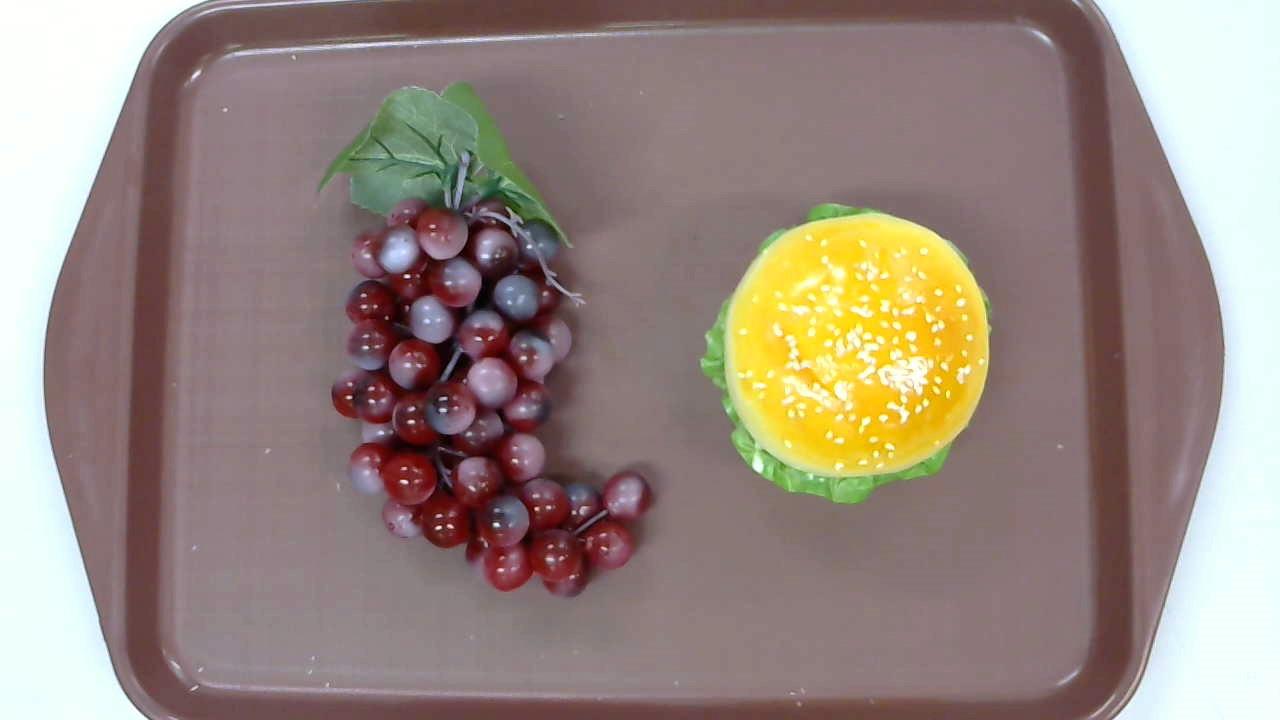grape: (313, 80, 658, 601)
hamburger: (699, 198, 991, 508)
